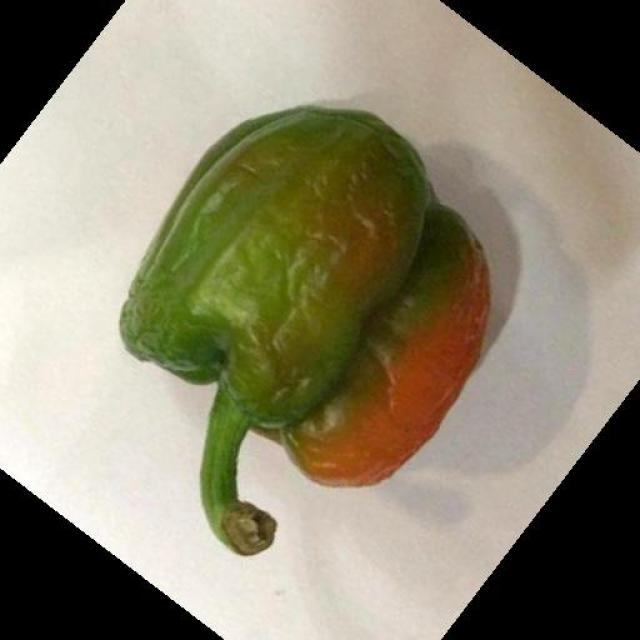Stale_Capsicum: (140, 98, 480, 488)
